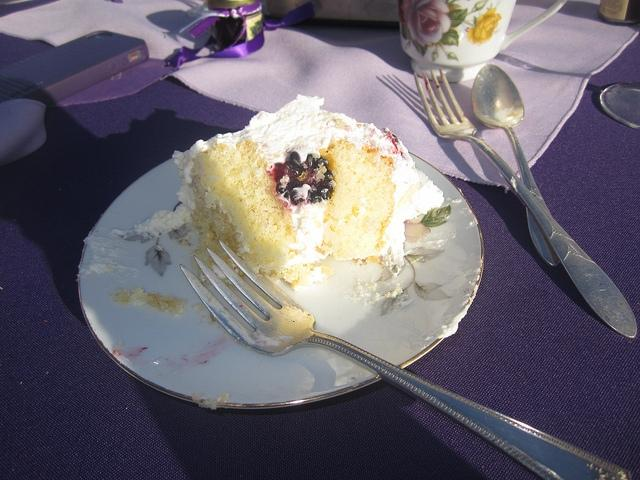blueberry: (317, 185, 333, 200), (276, 182, 296, 194), (287, 152, 301, 168), (310, 192, 324, 204), (314, 156, 328, 168), (324, 170, 334, 182), (292, 195, 303, 205), (292, 167, 302, 177), (299, 162, 309, 170), (284, 192, 289, 198)
